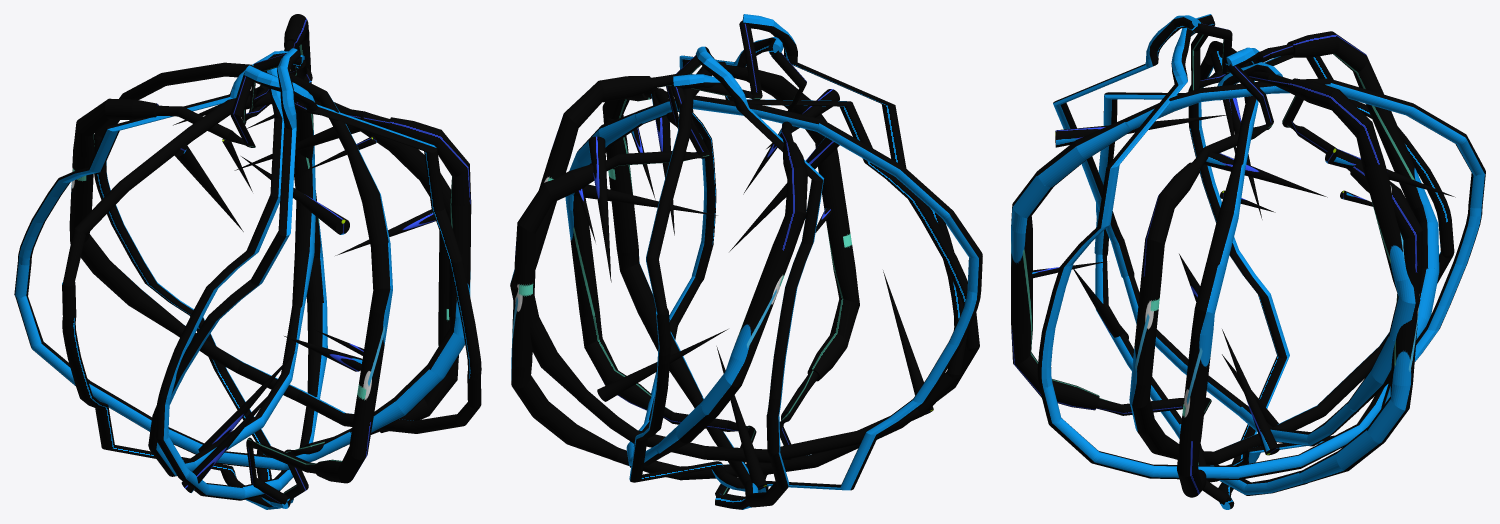
Rendered from Ball.fbx.
The picture shows the model from 3 angles, left to right: view 1: azimuth 30°, elevation 25°; view 2: azimuth 150°, elevation 25°; view 3: azimuth 270°, elevation 25°; orthographic projection. The views are drawn at different scales.
Parts seen in each view (by area): view 1: Cone; view 2: Cone; view 3: Cone.
Boxes of the visible parts, bbox=[...] form: Cone: bbox=[14, 14, 481, 509]; Cone: bbox=[510, 14, 982, 509]; Cone: bbox=[1011, 14, 1485, 509].
Size of the model in its own units: 1764 by 1974 by 1748.
1 material, 1 textured.
